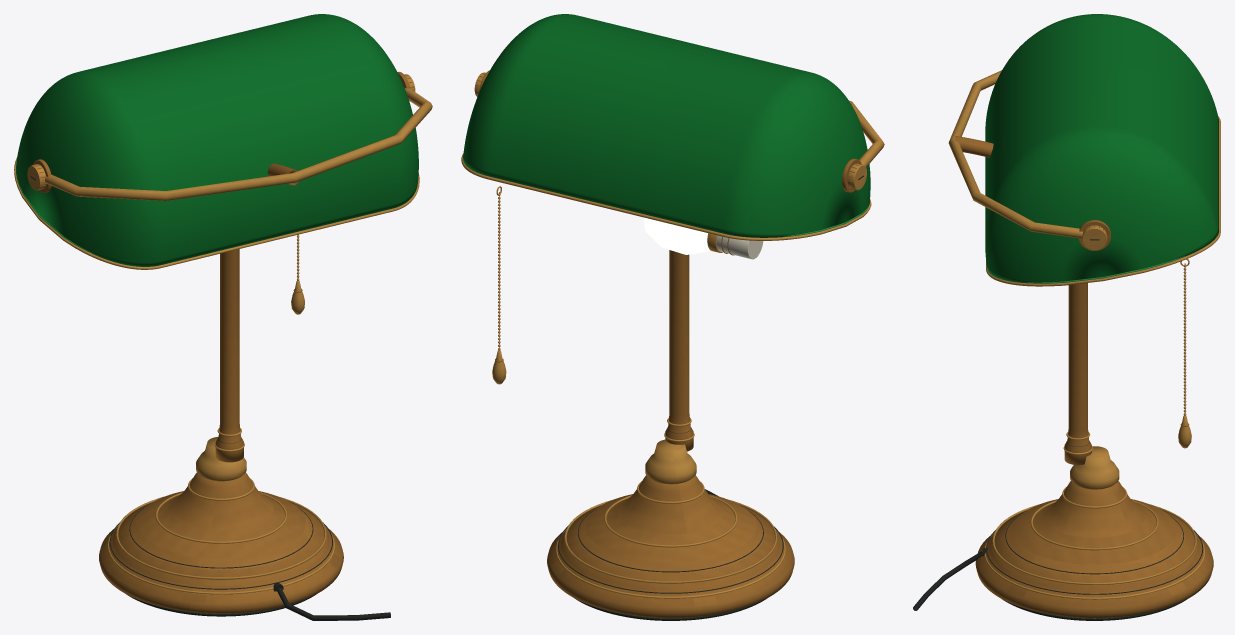
Rendered from BankersLamp.fbx.
The picture shows the model from 3 angles, left to right: view 1: azimuth 30°, elevation 25°; view 2: azimuth 150°, elevation 25°; view 3: azimuth 270°, elevation 25°; orthographic projection. The views are drawn at different scales.
Visible parts, largest first — view 1: Shade_GreenGlass, Base_SpunBrass, Shade_RearYoke, Stem_CurvedBrass, Shade_RolledBrassLip, Stem_Collar, Base_PolishedMolding_02, Cord_RearLead, Base_PolishedMolding_01, Base_PolishedMolding_03; view 2: Shade_GreenGlass, Base_SpunBrass, Stem_CurvedBrass, Stem_Collar, Shade_RolledBrassLip, Bulb_OpalTube, Base_PolishedMolding_02, Socket_CeramicSleeve, Base_PolishedMolding_01, Shade_RearYoke, Base_PolishedMolding_03; view 3: Shade_GreenGlass, Base_SpunBrass, Stem_CurvedBrass, Shade_RearYoke, Stem_Collar, Shade_RolledBrassLip, Base_PolishedMolding_02, Base_PolishedMolding_01, Base_PolishedMolding_03, Stem_RearSwanNeck, Shade_PivotCap_1, Cord_RearLead (+2 smaller).
Part boxes in pixels (x1,y1,x2,y2): Shade_GreenGlass: (16, 14, 418, 266); Base_SpunBrass: (99, 472, 343, 613); Shade_RearYoke: (45, 88, 432, 200); Stem_CurvedBrass: (215, 249, 243, 462); Shade_RolledBrassLip: (14, 157, 419, 269); Stem_Collar: (196, 436, 246, 481); Base_PolishedMolding_02: (116, 496, 326, 579); Cord_RearLead: (277, 588, 390, 620); Base_PolishedMolding_01: (107, 525, 334, 594); Base_PolishedMolding_03: (155, 492, 287, 543); Shade_GreenGlass: (463, 14, 870, 237); Base_SpunBrass: (547, 475, 794, 618); Stem_CurvedBrass: (665, 250, 693, 451); Stem_Collar: (645, 439, 696, 484); Shade_RolledBrassLip: (461, 153, 871, 240); Bulb_OpalTube: (644, 217, 710, 254); Base_PolishedMolding_02: (564, 500, 777, 583); Socket_CeramicSleeve: (716, 235, 763, 259); Base_PolishedMolding_01: (556, 529, 785, 598); Shade_RearYoke: (849, 100, 884, 167); Base_PolishedMolding_03: (604, 495, 737, 547); Shade_GreenGlass: (985, 14, 1218, 283); Base_SpunBrass: (975, 481, 1213, 618); Stem_CurvedBrass: (1064, 283, 1091, 465); Shade_RearYoke: (948, 70, 1083, 238); Stem_Collar: (1070, 446, 1119, 489); Shade_RolledBrassLip: (986, 116, 1220, 286); Base_PolishedMolding_02: (992, 504, 1196, 584); Base_PolishedMolding_01: (984, 533, 1205, 599); Base_PolishedMolding_03: (1030, 500, 1158, 550); Stem_RearSwanNeck: (954, 136, 993, 157); Shade_PivotCap_1: (1082, 225, 1106, 250); Cord_RearLead: (913, 551, 982, 610).
Bounding box in the file's own units: 0.3089 × 0.4062 × 0.225.
Materials: 10 (3 with a texture image).
